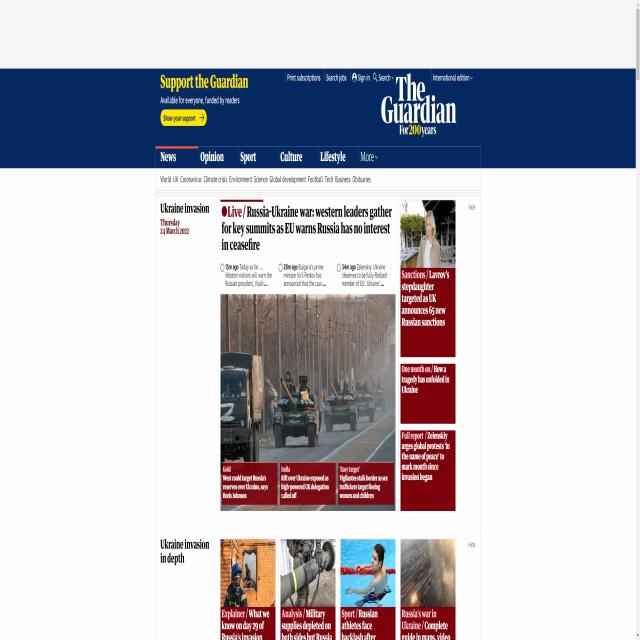menu-bar: (284, 70, 396, 89)
tab-bar: (156, 147, 380, 167)
